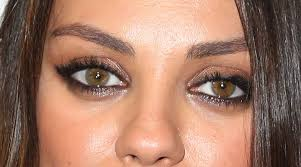pupil: (85, 68, 108, 87), (212, 80, 234, 98)
